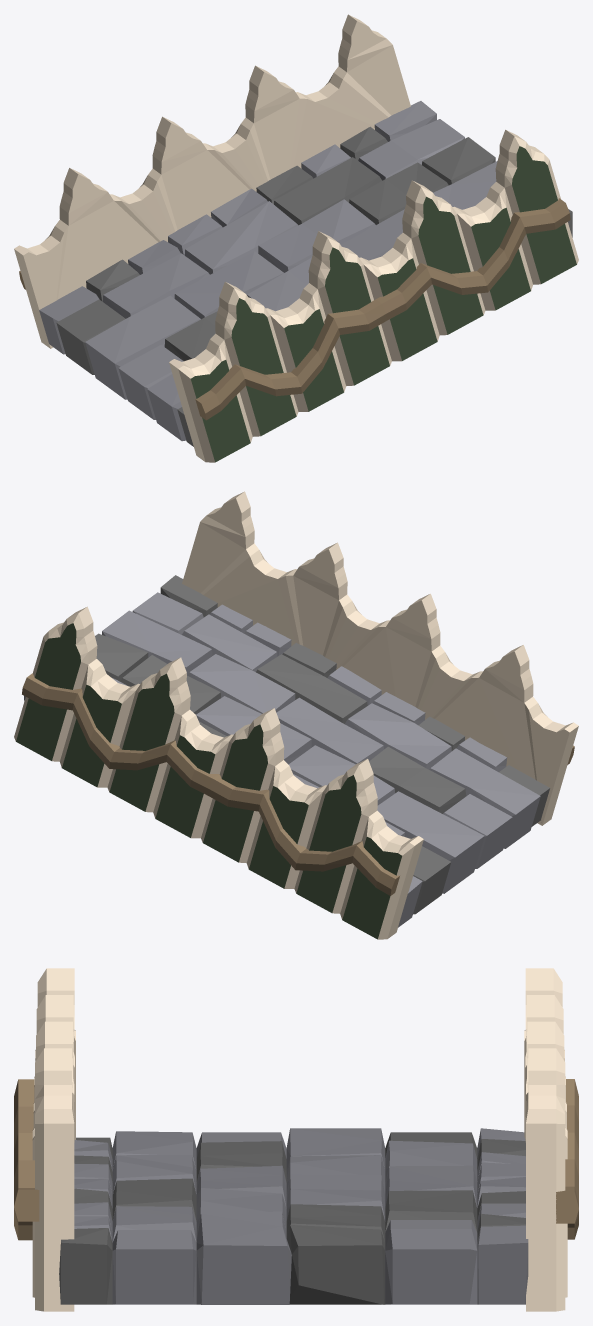
Rendered from _BRIDGE_MAIN1.fbx.
3 views of the same model, one above another, from view 1: azimuth 30°, elevation 25°; view 2: azimuth 150°, elevation 25°; view 3: azimuth 270°, elevation 25° (orthographic). The views are drawn at different scales.
Visible parts, largest first — view 1: BRIDGE_MAIN1; view 2: BRIDGE_MAIN1; view 3: BRIDGE_MAIN1.
Boxes of the visible parts, x1,y1,x2,y2 form: BRIDGE_MAIN1: (14, 14, 578, 462); BRIDGE_MAIN1: (14, 491, 578, 939); BRIDGE_MAIN1: (14, 968, 578, 1311).
Bounding box in the file's own units: 673 × 405 × 535.
